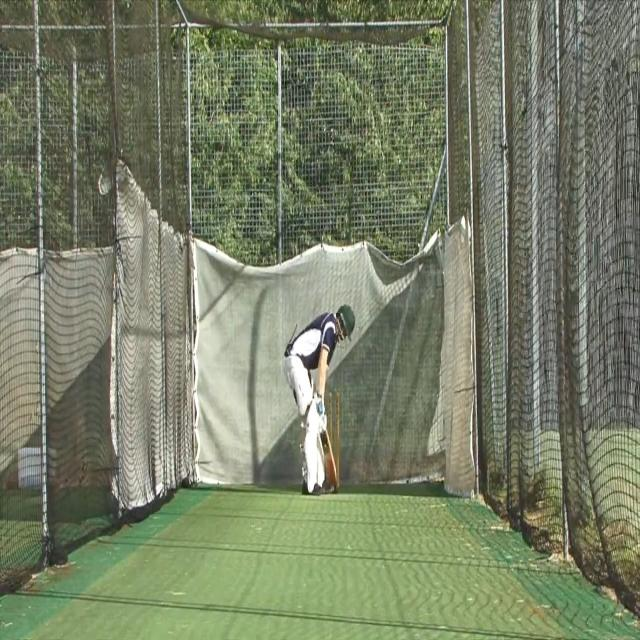batsman: (282, 302, 357, 498)
